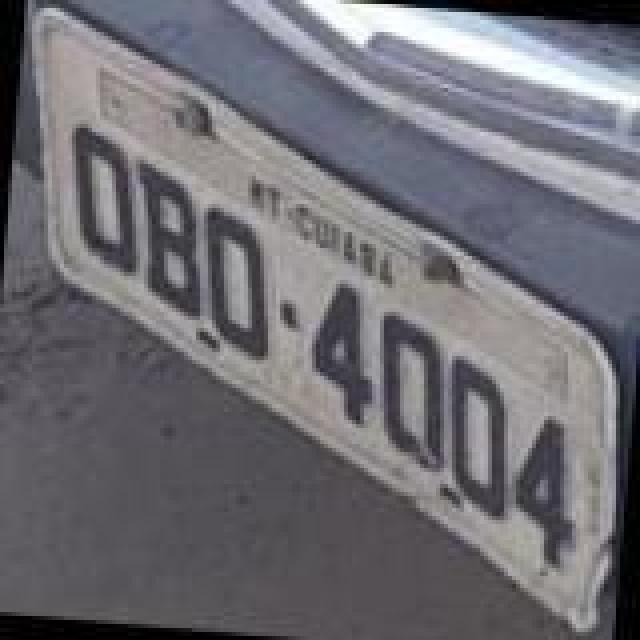4: (302, 276, 386, 428), (504, 414, 584, 570)
B: (122, 156, 214, 324)
O: (438, 354, 522, 526), (58, 122, 150, 278), (194, 202, 286, 358), (374, 310, 458, 474)
